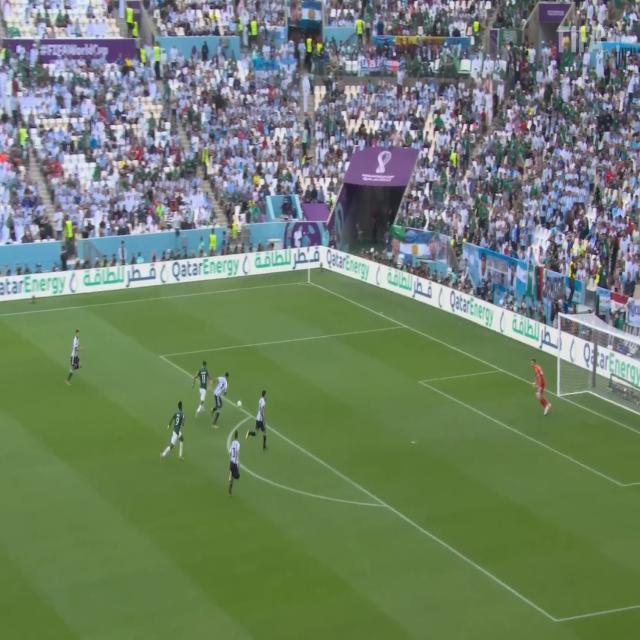football: (228, 397, 250, 410)
